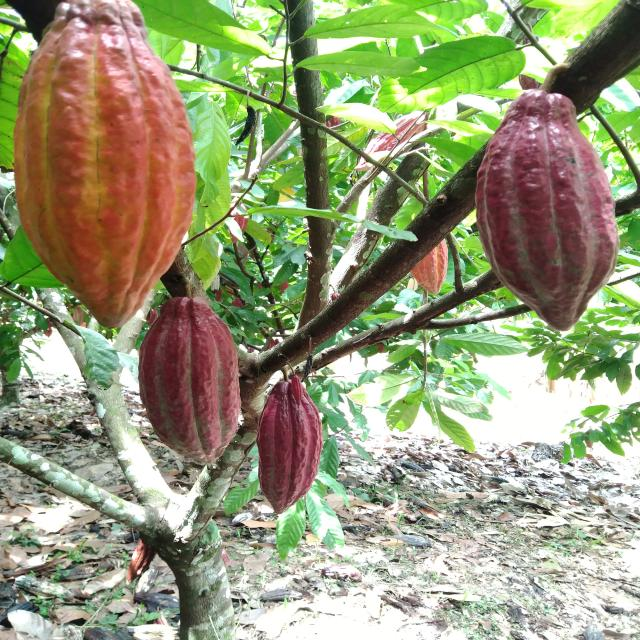Sana: (15, 0, 197, 325), (486, 90, 623, 330), (146, 300, 242, 466), (251, 376, 327, 514), (414, 237, 447, 300)
